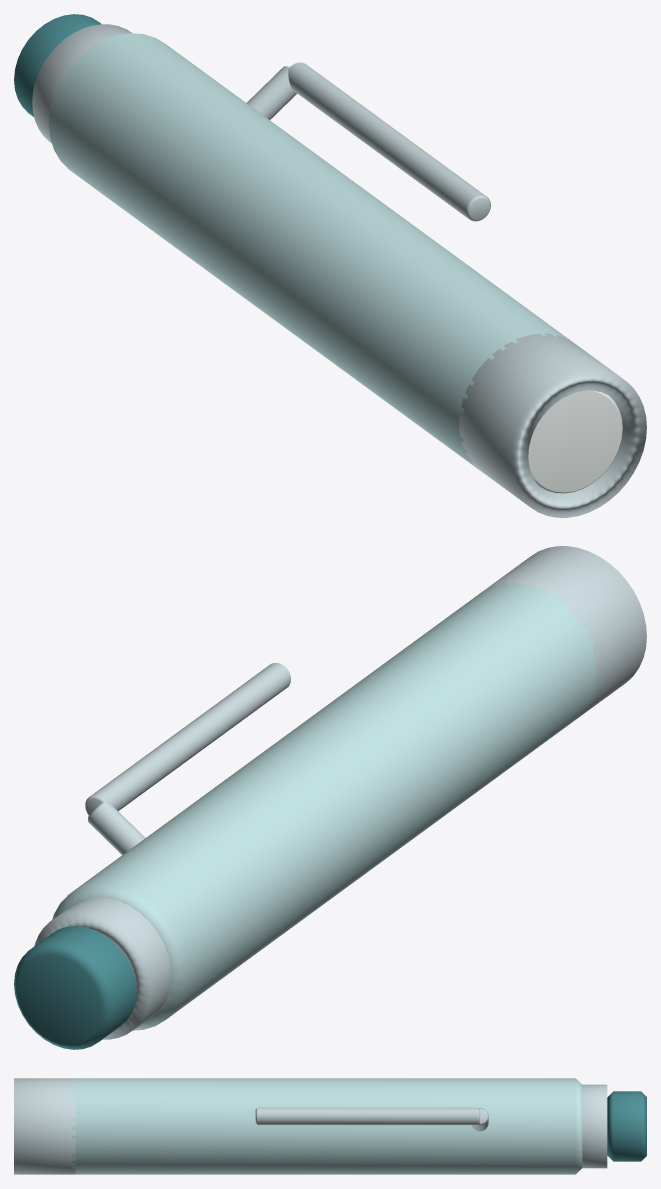
Rendered from inspection_penlight.glb.
3 views of the same model, one above another, from view 1: azimuth 30°, elevation 25°; view 2: azimuth 150°, elevation 25°; view 3: azimuth 270°, elevation 25° (orthographic). The views are drawn at different scales.
Parts seen in each view (by area): view 1: Pen_Body, Lamp_Bezel, LED_Lens, Pocket_Clip, Switch_Guide, Switch_Cap, Clip_Bridge; view 2: Pen_Body, Switch_Cap, Lamp_Bezel, Pocket_Clip, Switch_Guide, Clip_Bridge; view 3: Pen_Body, Lamp_Bezel, Pocket_Clip, Switch_Cap, Switch_Guide, Clip_Bridge.
Part boxes in pixels (x1,y1,x2,y2): Pen_Body: (48, 33, 574, 468); Lamp_Bezel: (459, 333, 646, 517); LED_Lens: (528, 390, 622, 493); Pocket_Clip: (288, 62, 490, 221); Switch_Guide: (32, 24, 131, 143); Switch_Cap: (14, 14, 101, 116); Clip_Bridge: (247, 66, 296, 119); Pen_Body: (52, 580, 597, 1030); Switch_Cap: (14, 926, 136, 1049); Lamp_Bezel: (481, 546, 646, 718); Pocket_Clip: (85, 663, 290, 815); Switch_Guide: (34, 897, 171, 1039); Clip_Bridge: (88, 802, 145, 854); Pen_Body: (72, 1078, 582, 1174); Lamp_Bezel: (14, 1078, 75, 1174); Pocket_Clip: (255, 1107, 479, 1125); Switch_Cap: (607, 1091, 646, 1161); Switch_Guide: (582, 1084, 607, 1168); Clip_Bridge: (472, 1108, 488, 1131).
Bounding box in the file's own units: 0.029 × 0.023 × 0.144.
